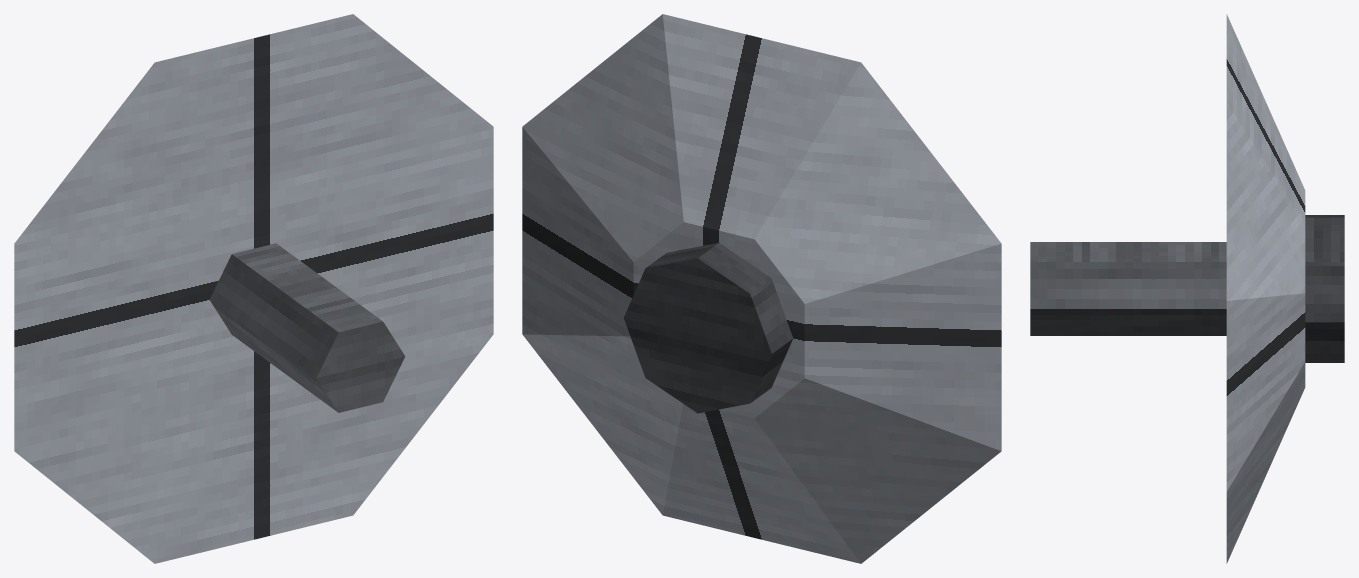
The model's file is dish_kestrel.glb.
3 renders of one model, left to right at view 1: azimuth 30°, elevation 25°; view 2: azimuth 150°, elevation 25°; view 3: azimuth 270°, elevation 25°, orthographic. The views are drawn at different scales.
Visible parts, largest first — view 1: dish, dish_mast; view 2: dish, dish_core; view 3: dish, dish_mast, dish_core.
Part boxes in pixels (bbox=[...]): dish: bbox=[14, 14, 493, 563]; dish_mast: bbox=[209, 243, 405, 412]; dish: bbox=[522, 14, 1001, 563]; dish_core: bbox=[624, 243, 793, 413]; dish: bbox=[1226, 14, 1305, 563]; dish_mast: bbox=[1030, 242, 1226, 335]; dish_core: bbox=[1305, 215, 1344, 362].
Size of the model in its own units: 12.93 by 12.93 by 8.
Materials: 3 (3 with a texture image).
